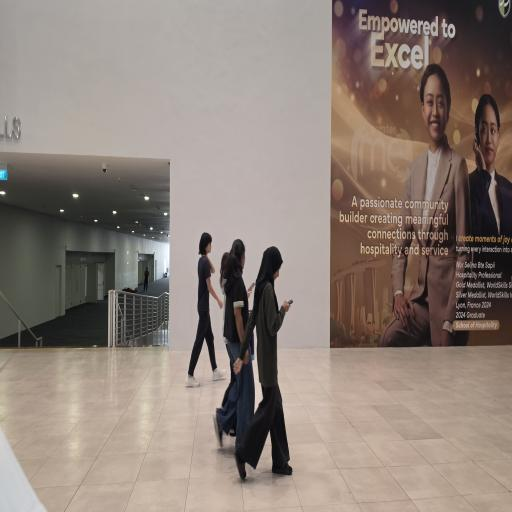person_right: (253, 246, 293, 482), (228, 233, 258, 444), (188, 218, 224, 393)
